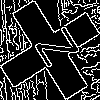Z: (25, 25, 81, 76)
